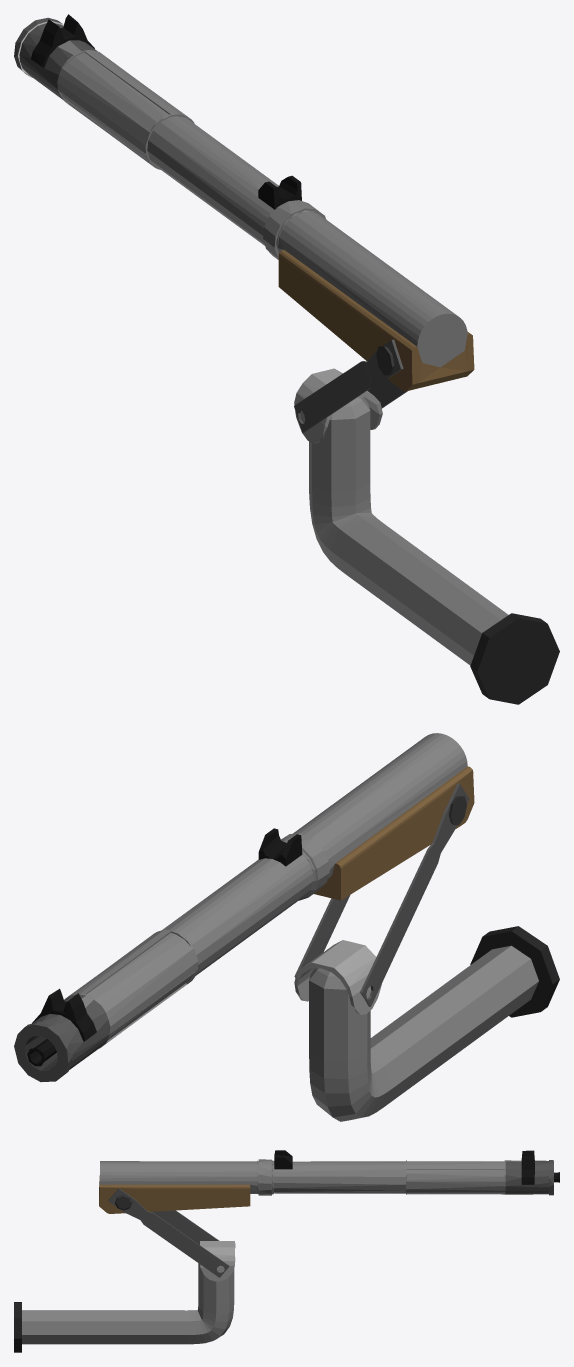
File: First Turret.fbx
The picture shows the model from 3 angles, top to bottom: view 1: azimuth 30°, elevation 25°; view 2: azimuth 150°, elevation 25°; view 3: azimuth 270°, elevation 25°; orthographic projection. The views are drawn at different scales.
Visible parts, largest first — view 1: Gun.003, Pole.001; view 2: Gun.003, Pole.001; view 3: Gun.003, Pole.001.
Part boxes in pixels (bbox=[...]): Gun.003: bbox=[14, 14, 474, 443]; Pole.001: bbox=[309, 397, 559, 704]; Gun.003: bbox=[14, 733, 474, 1082]; Pole.001: bbox=[309, 926, 559, 1121]; Gun.003: bbox=[99, 1150, 559, 1281]; Pole.001: bbox=[14, 1263, 234, 1352].
Bounding box in the file's own units: 43.45 × 176 × 440.
